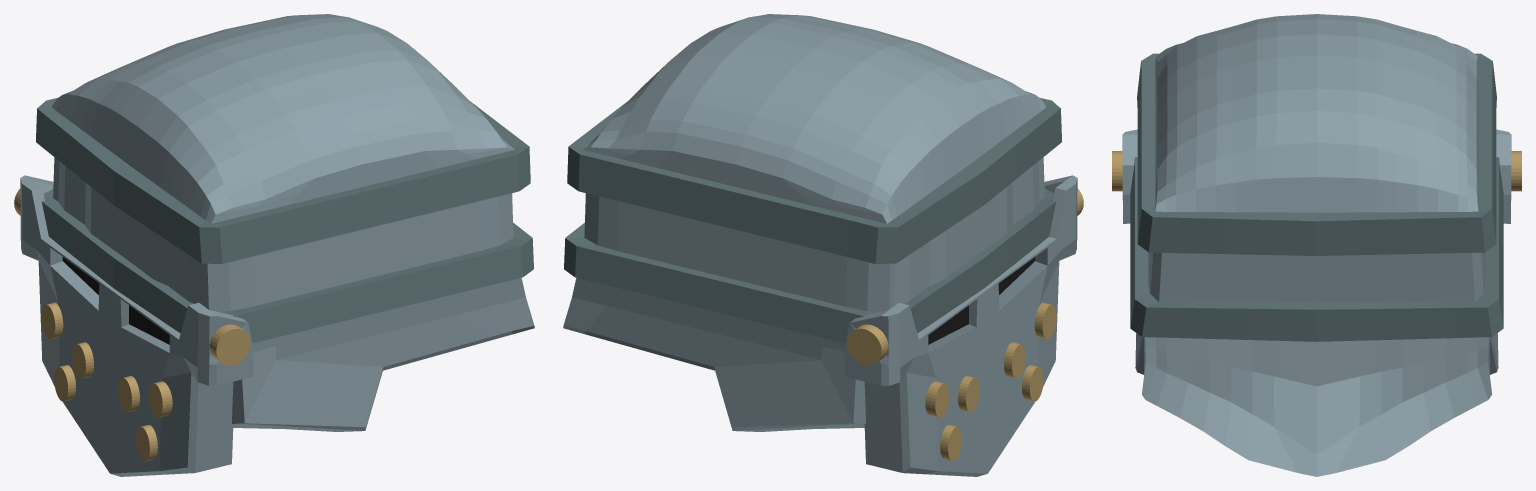
File: casco4.fbx
3 renders of one model, left to right at view 1: azimuth 30°, elevation 25°; view 2: azimuth 150°, elevation 25°; view 3: azimuth 270°, elevation 25°, orthographic.
Visible parts, largest first — view 1: cascoNPC2; view 2: cascoNPC2; view 3: cascoNPC2.
Part boxes in pixels (left/top/right/bottom): cascoNPC2: left=14, top=14, right=534, bottom=476; cascoNPC2: left=563, top=14, right=1083, bottom=476; cascoNPC2: left=1112, top=14, right=1521, bottom=476.
Bounding box in the file's own units: 119 × 111 × 104.
